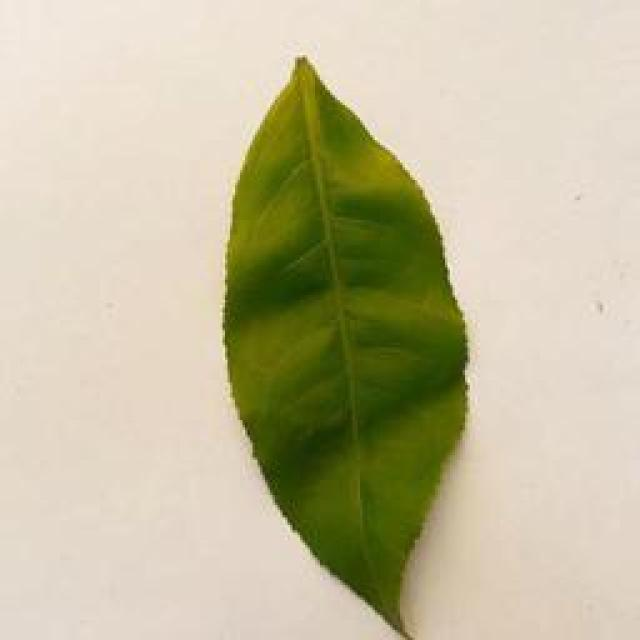Healthy: (210, 35, 482, 640)
